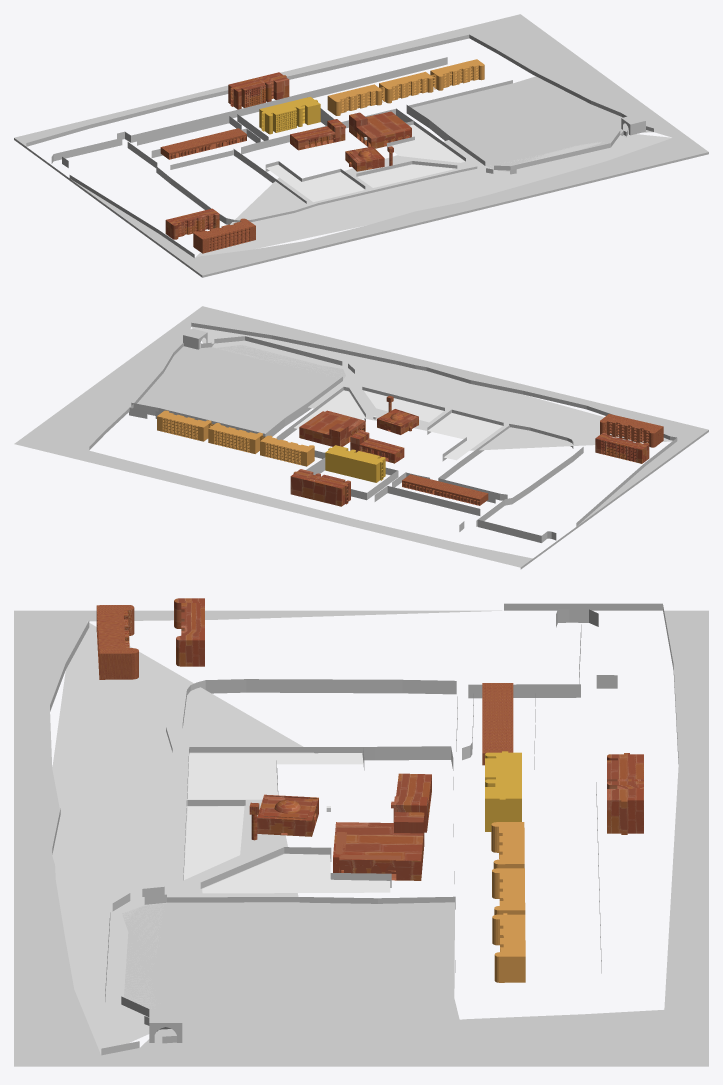
The model's file is IUT_Campus.glb.
The picture shows the model from 3 angles, top to bottom: view 1: azimuth 30°, elevation 25°; view 2: azimuth 150°, elevation 25°; view 3: azimuth 270°, elevation 25°; orthographic projection. The views are drawn at different scales.
Visible parts, largest first — view 1: plane, plane.011, plane.007, plane.008, plane.009, male hall, lib, ab_1, ab_2, plane.003, ub, mpe workshops (+6 smaller); view 2: plane.011, plane.008, plane, plane.007, plane.009, male hall, lib, ab_1, ab_2, plane.003, ub, mpe workshops (+7 smaller); view 3: plane.011, plane.007, plane.008, plane.009, plane, lib, male hall, plane.003, plane.006, plane.010, plane.004, ab_2 (+8 smaller).
Boxes of the visible parts, bbox=[...] form: plane: bbox=[14, 34, 708, 277]; plane.011: bbox=[195, 131, 672, 257]; plane.007: bbox=[412, 76, 627, 171]; plane.008: bbox=[14, 14, 679, 146]; plane.009: bbox=[204, 131, 708, 275]; male hall: bbox=[327, 59, 484, 115]; lib: bbox=[349, 111, 411, 148]; ab_1: bbox=[259, 96, 320, 134]; ab_2: bbox=[228, 72, 289, 109]; plane.003: bbox=[266, 164, 364, 201]; ub: bbox=[193, 218, 255, 253]; mpe workshops: bbox=[160, 128, 246, 159]; plane.011: bbox=[191, 326, 672, 450]; plane.008: bbox=[14, 327, 532, 567]; plane: bbox=[89, 322, 708, 569]; plane.007: bbox=[137, 346, 345, 433]; plane.009: bbox=[174, 306, 706, 429]; male hall: bbox=[157, 410, 314, 466]; lib: bbox=[299, 410, 365, 446]; ab_1: bbox=[325, 445, 385, 482]; ab_2: bbox=[290, 469, 350, 506]; plane.003: bbox=[428, 413, 502, 460]; ub: bbox=[600, 414, 663, 447]; mpe workshops: bbox=[402, 474, 488, 505]; plane.011: bbox=[52, 622, 314, 1054]; plane.007: bbox=[122, 902, 459, 1042]; plane.008: bbox=[120, 610, 708, 1066]; plane.009: bbox=[14, 611, 135, 1066]; plane: bbox=[50, 603, 678, 1055]; lib: bbox=[333, 812, 424, 880]; male hall: bbox=[491, 822, 525, 982]; plane.003: bbox=[187, 753, 363, 799]; plane.006: bbox=[202, 854, 390, 893]; plane.010: bbox=[14, 610, 87, 710]; plane.004: bbox=[184, 806, 244, 879]; ab_2: bbox=[607, 753, 643, 834].
Size of the model in its own units: 487 by 20.87 by 314.
14 materials, 7 textured.
